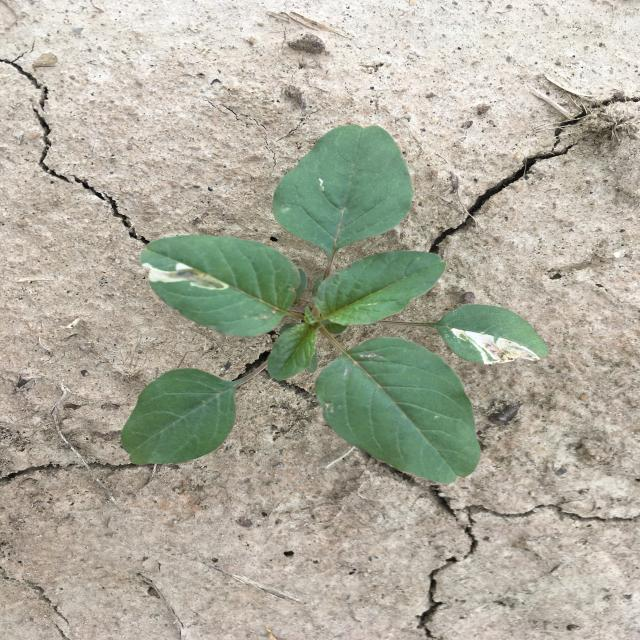PalmerAmaranth: (121, 124, 549, 484)
